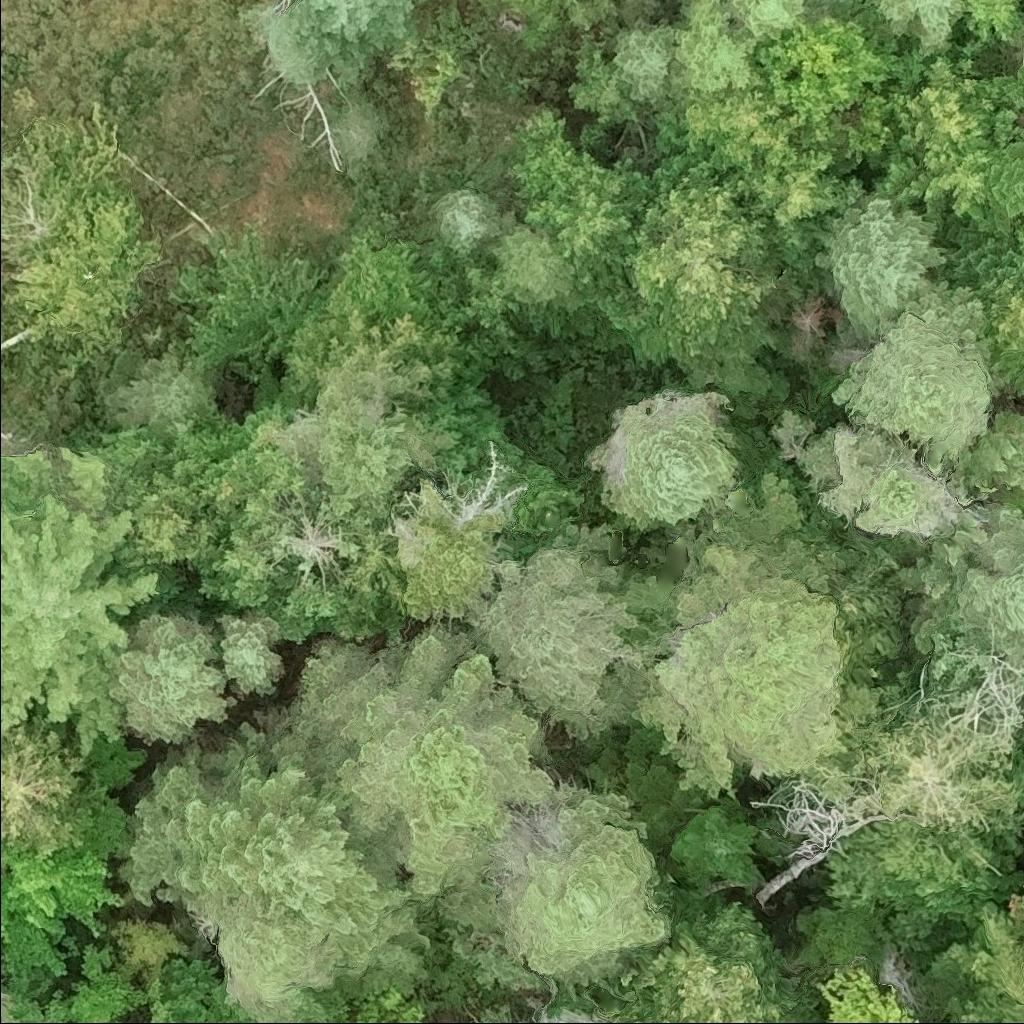crown: (116, 698, 435, 1023), (628, 505, 902, 804), (291, 620, 569, 907), (432, 782, 681, 1000), (0, 443, 162, 763), (453, 519, 676, 746), (196, 444, 412, 644), (596, 149, 782, 368), (829, 276, 1006, 480), (800, 700, 1023, 846), (0, 767, 138, 1001), (506, 107, 656, 305), (89, 423, 251, 578), (162, 221, 330, 369), (795, 423, 986, 547), (622, 896, 805, 1023), (902, 501, 1023, 688), (586, 388, 742, 530), (12, 198, 160, 346), (811, 196, 952, 344), (107, 611, 239, 755), (752, 9, 896, 124), (908, 64, 1022, 209), (398, 482, 505, 635), (718, 143, 867, 240), (677, 63, 807, 173), (314, 312, 431, 422), (0, 715, 88, 860), (748, 775, 894, 861), (312, 387, 420, 497), (98, 348, 223, 439), (661, 799, 771, 889), (664, 0, 757, 100), (491, 221, 593, 312), (938, 414, 1023, 506), (925, 210, 1021, 290), (328, 238, 420, 321), (426, 187, 524, 264), (207, 600, 286, 695), (972, 217, 1023, 362), (303, 0, 411, 68), (266, 3, 344, 89), (500, 0, 625, 52), (816, 965, 919, 1023), (953, 652, 1023, 730), (870, 0, 965, 56), (967, 141, 1023, 234), (611, 17, 671, 102), (723, 0, 810, 42), (958, 0, 1023, 44), (523, 997, 626, 1023), (643, 1009, 725, 1023), (0, 985, 20, 1023), (1013, 884, 1023, 924), (1017, 39, 1023, 80), (1019, 939, 1023, 997), (476, 1019, 495, 1023), (755, 1019, 773, 1023)
